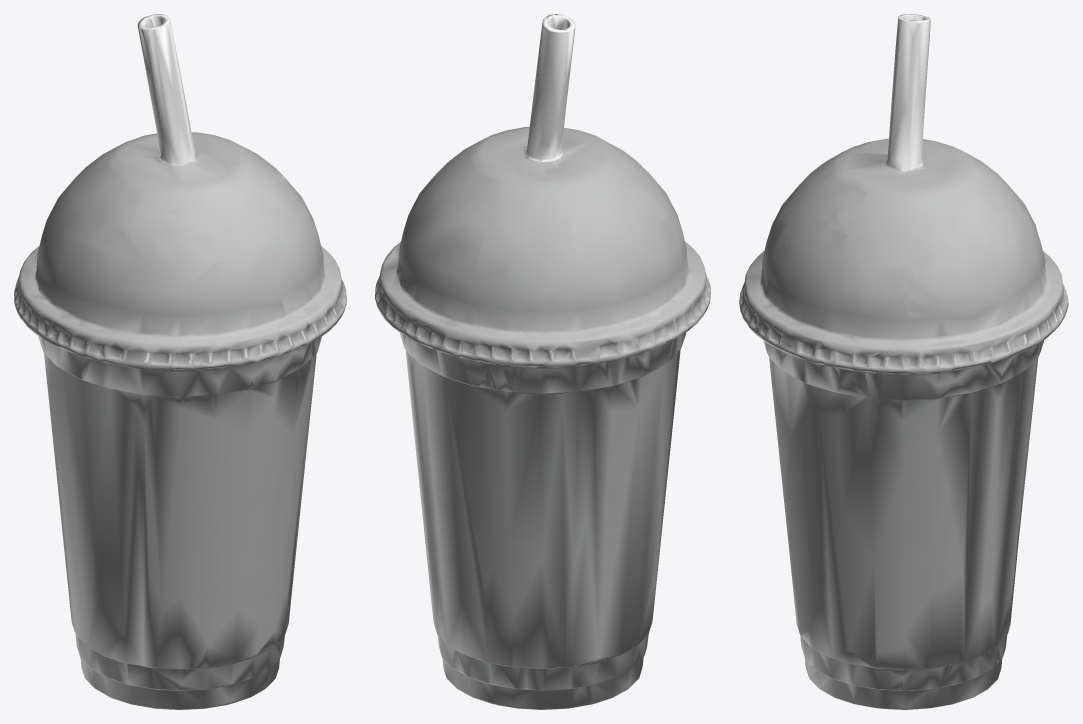
File: glass-iced-dinein.glb
3 renders of one model, left to right at view 1: azimuth 30°, elevation 25°; view 2: azimuth 150°, elevation 25°; view 3: azimuth 270°, elevation 25°, orthographic. The views are drawn at different scales.
Parts seen in each view (by area): view 1: Mesh_0; view 2: Mesh_0; view 3: Mesh_0.
Boxes of the visible parts, x1,y1,x2,y2 form: Mesh_0: (14,14,346,709); Mesh_0: (375,14,710,709); Mesh_0: (739,14,1068,709).
Bounding box in the file's own units: 0.8838 × 1.91 × 0.8853.
1 material, 1 textured.
